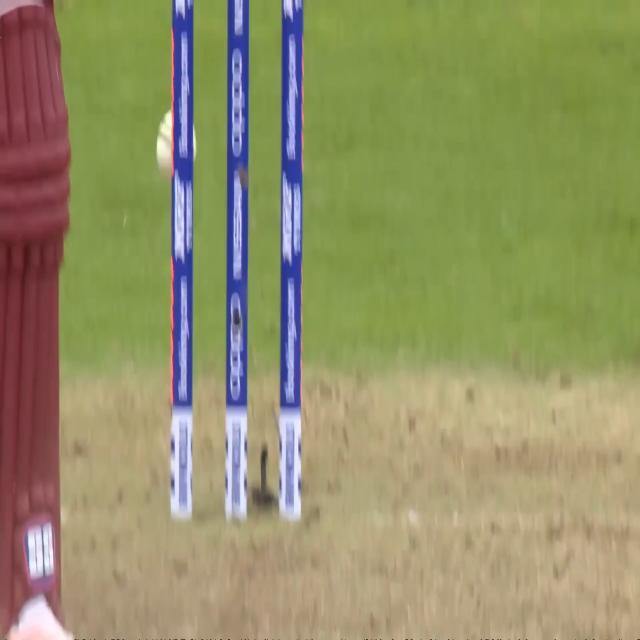ball: (155, 102, 173, 178)
